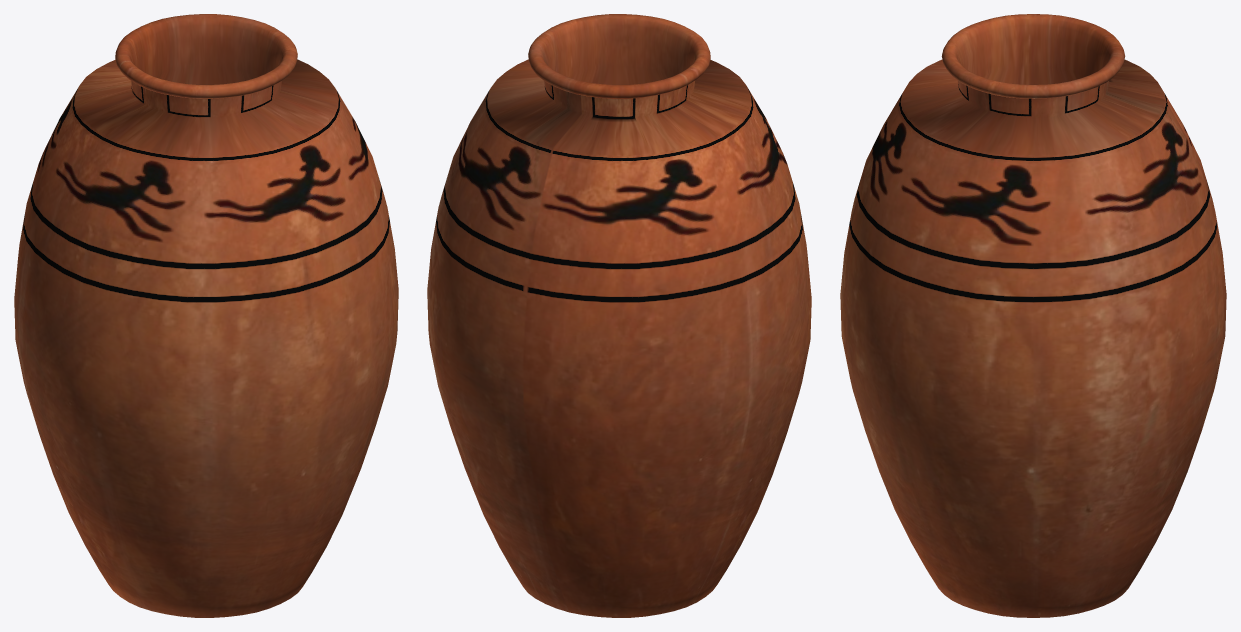
Rendered from Jarron.obj.
The picture shows the model from 3 angles, left to right: view 1: azimuth 30°, elevation 25°; view 2: azimuth 150°, elevation 25°; view 3: azimuth 270°, elevation 25°; orthographic projection.
Parts seen in each view (by area): view 1: Ancient_Vase:Mesh; view 2: Ancient_Vase:Mesh; view 3: Ancient_Vase:Mesh.
Part boxes in pixels (x1,y1,x2,y2): Ancient_Vase:Mesh: [14, 14, 398, 617]; Ancient_Vase:Mesh: [427, 14, 811, 617]; Ancient_Vase:Mesh: [840, 14, 1226, 617].
Bounding box in the file's own units: 0.5274 × 0.811 × 0.5304.
Materials: 1 (1 with a texture image).
